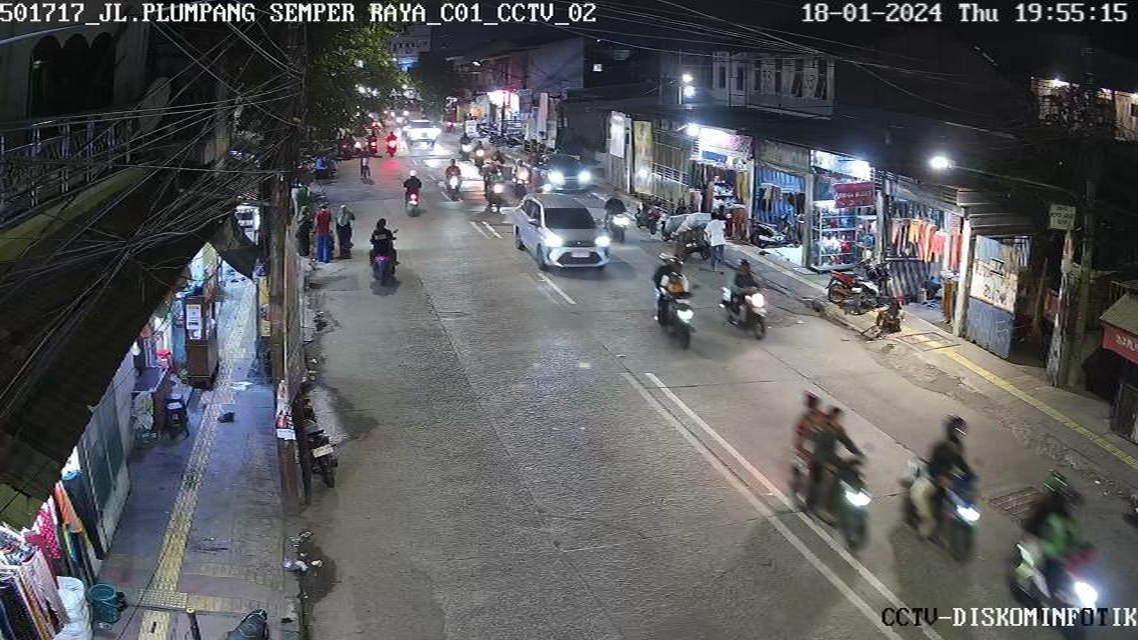Gerobak: (176, 282, 235, 378)
